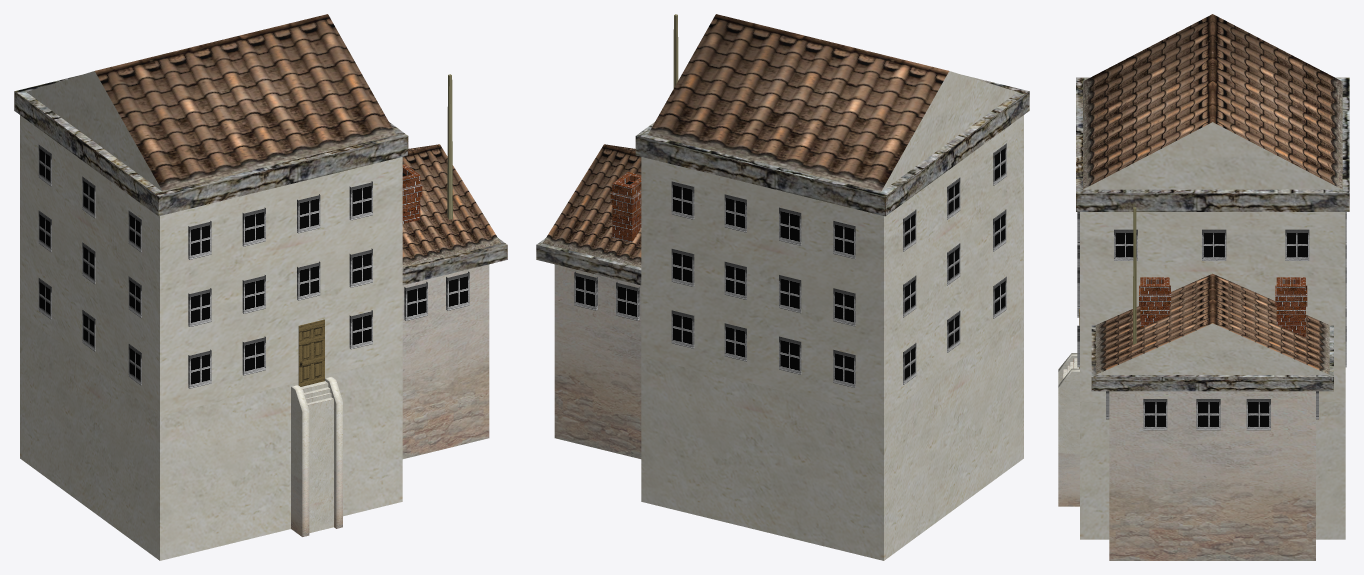
File: iber_arsenal.dae
3 views of the same model, side by side, from view 1: azimuth 30°, elevation 25°; view 2: azimuth 150°, elevation 25°; view 3: azimuth 270°, elevation 25° (orthographic). The views are drawn at different scales.
Parts seen in each view (by area): view 1: IberArsenal; view 2: IberArsenal; view 3: IberArsenal.
Boxes of the visible parts, box(x1,y1,x2,y2) form: IberArsenal: box(14, 14, 507, 560); IberArsenal: box(536, 14, 1029, 560); IberArsenal: box(1058, 14, 1349, 560).
Bounding box in the file's own units: 23.84 × 17.72 × 27.9.
